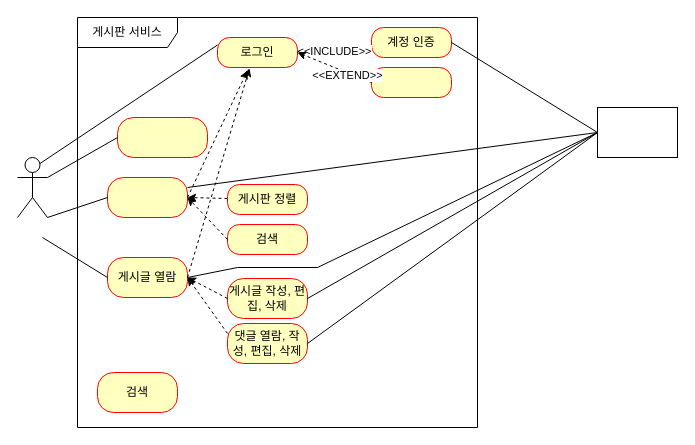
This 695x445 diagram has some shape labels left out. The shapes that lost their labels are listed below. From the top down, each one's centre as x and y in pixels, then its label:
(411,82): 인증 실패
(162,137): 회원 가입
(637,132): Database
(32,187): 유저
(147,197): 게시판 열람
